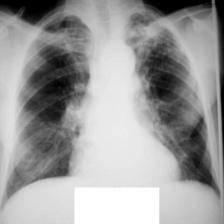tuberculosis: (3, 8, 221, 202)
